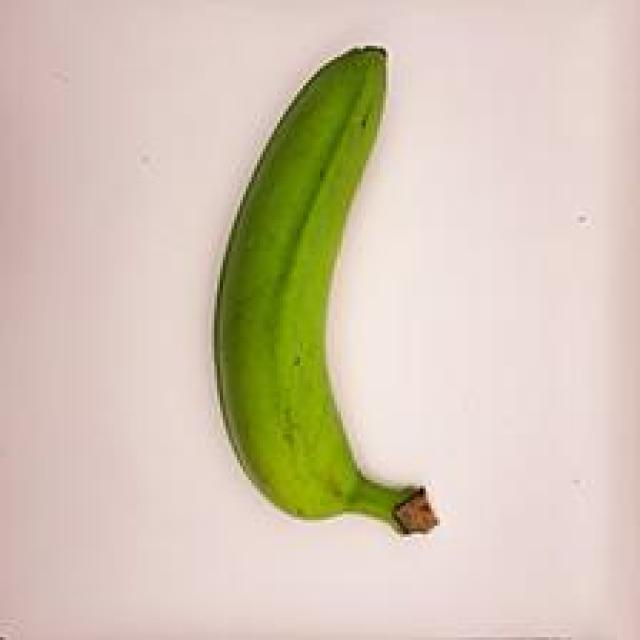raw: (164, 21, 502, 554)
